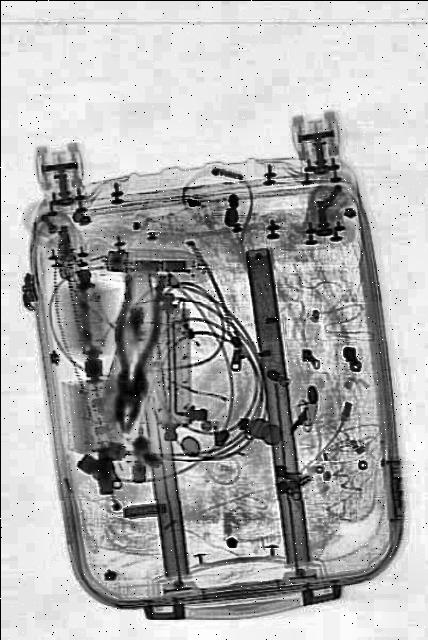Pliers: (100, 266, 166, 432)
